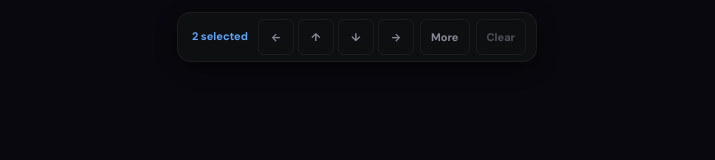
Test: keeps successful edits and reports false results and thrown failures
Click the button titled "More selection actions" at (445, 37), box [420, 19, 470, 55]
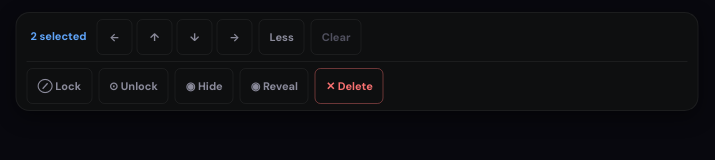
Click the button "⊘ Lock" at (59, 86), box [26, 68, 92, 104]
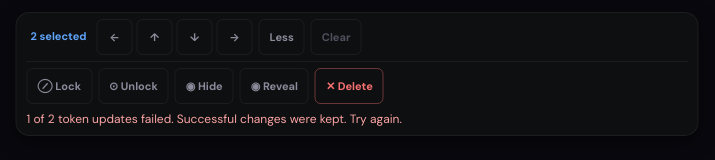
Check: the message shows "1 of 2", box [26, 111, 402, 127]
Click the button "⊙ Unlock" at (133, 86), box [98, 68, 169, 104]
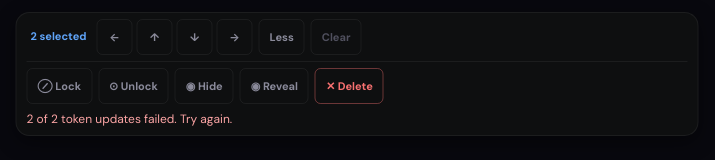
Check: the message shows "2 of 2", box [26, 111, 232, 127]
